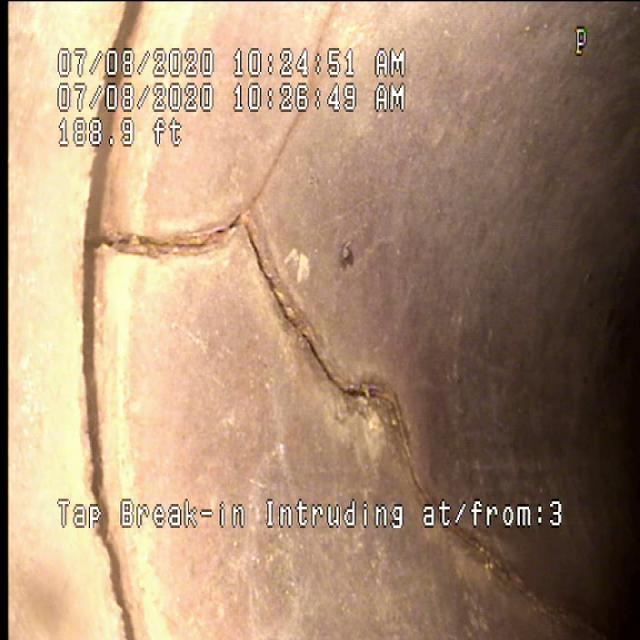Crack: (110, 181, 446, 435)
